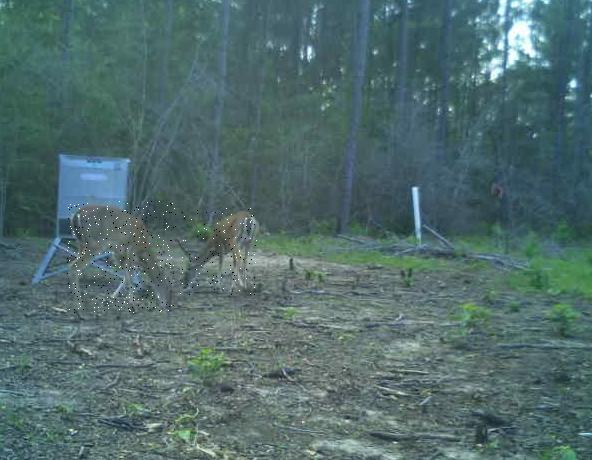Deer: (68, 201, 177, 314), (181, 208, 258, 295)
